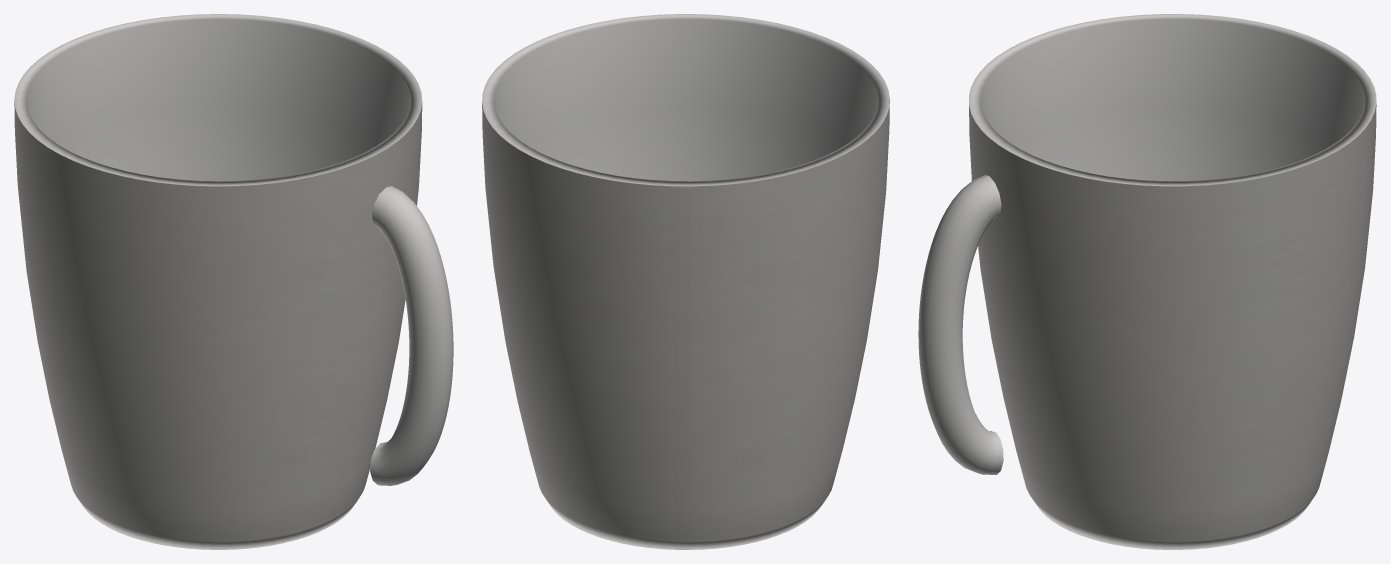
Rendered from CER-15.glb.
The picture shows the model from 3 angles, left to right: view 1: azimuth 30°, elevation 25°; view 2: azimuth 150°, elevation 25°; view 3: azimuth 270°, elevation 25°; orthographic projection.
Bounding box in the file's own units: 0.0749 × 0.0792 × 0.0842.
3 materials, 1 textured.
